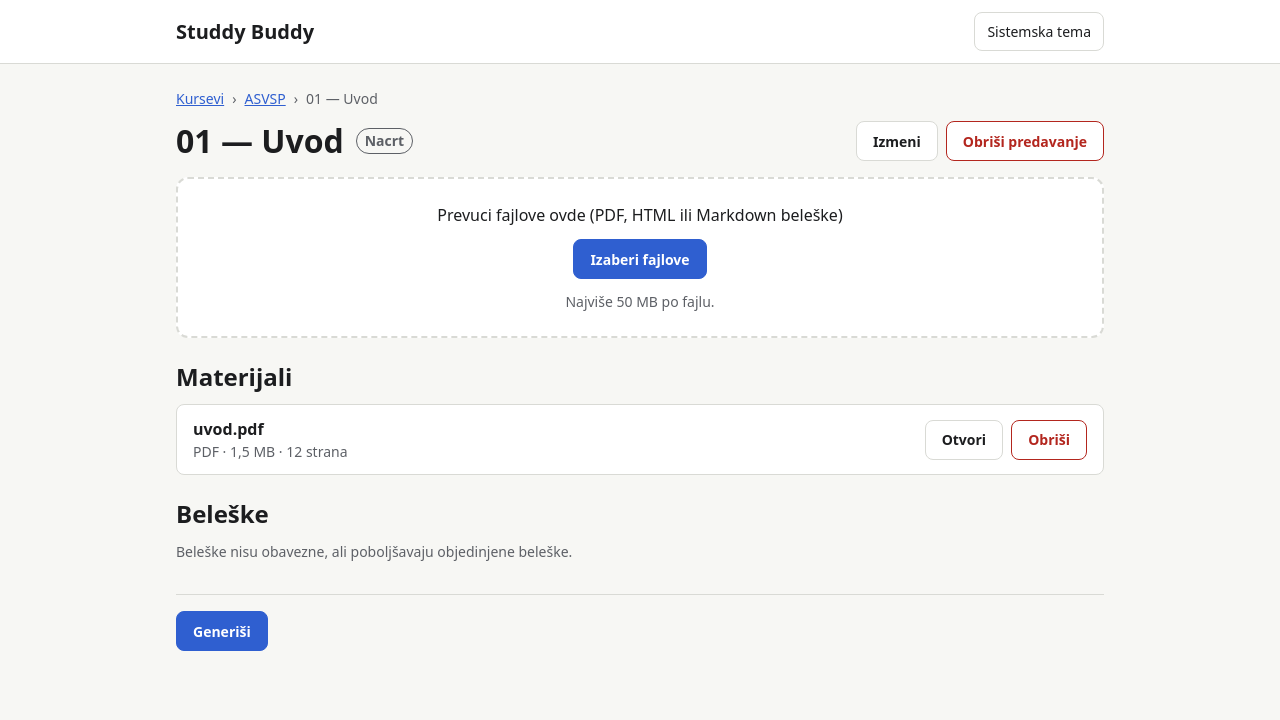
Scenario: ClassPage › Generiši button › shows the server's message when generation is refused
Click the button "Generiši": click(222, 631) [176,611,268,651]
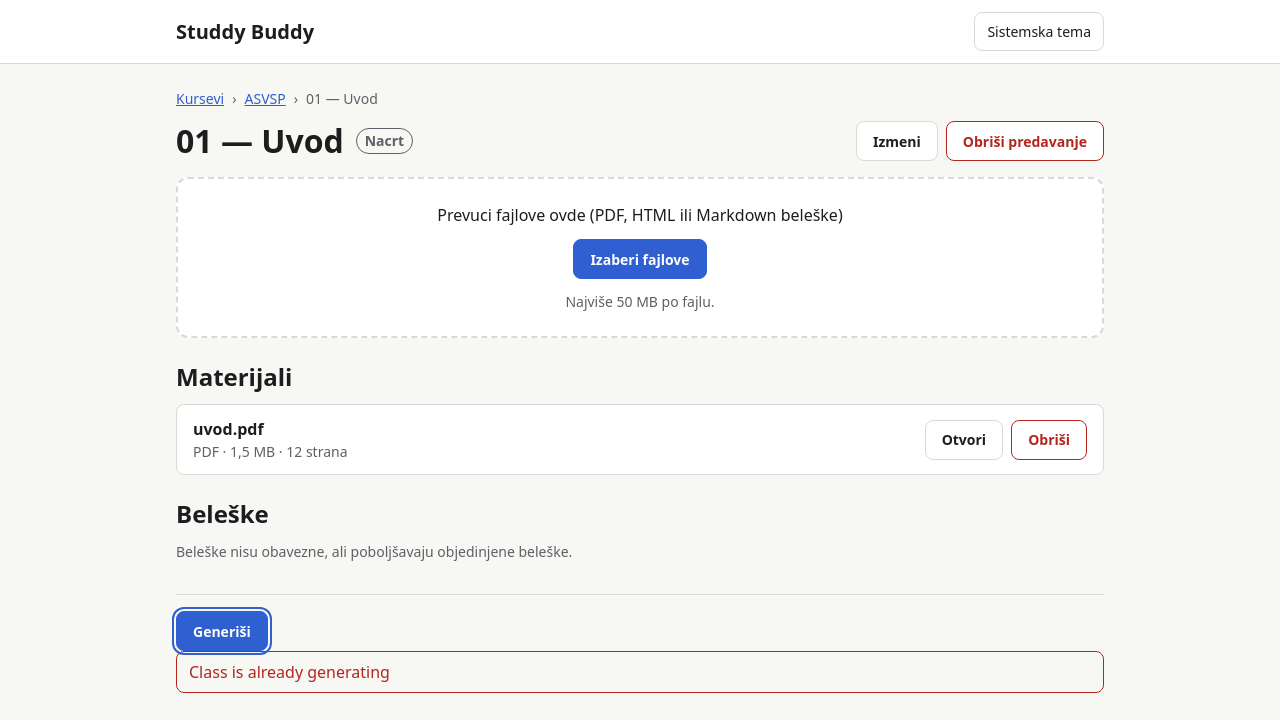
Result: the message reads "Class is already generating" at [189,661,390,683]
